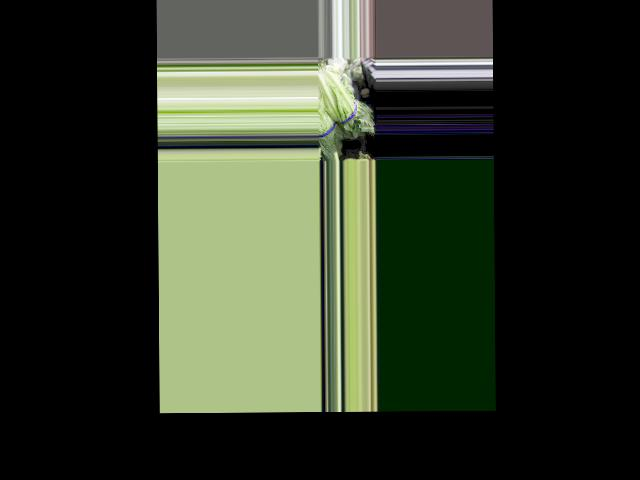lettuce: (317, 72, 370, 137)
